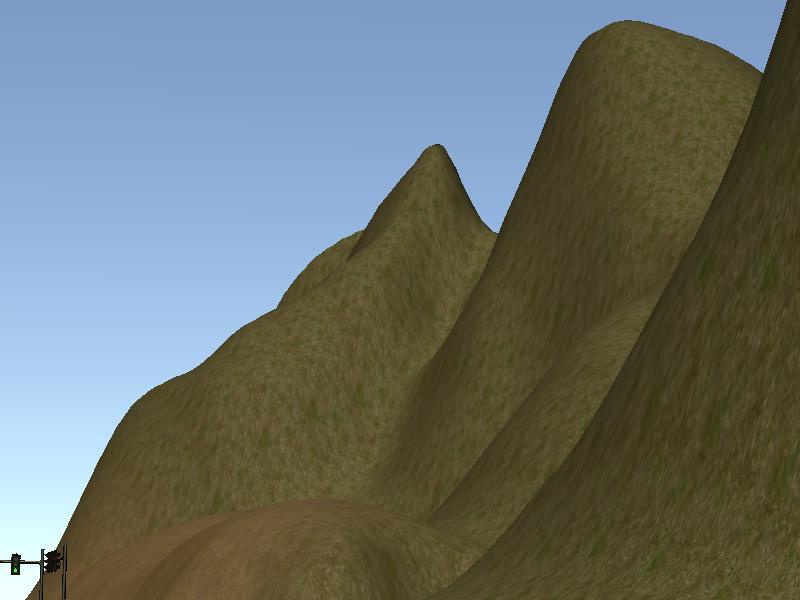green_light: (10, 552, 21, 575)
